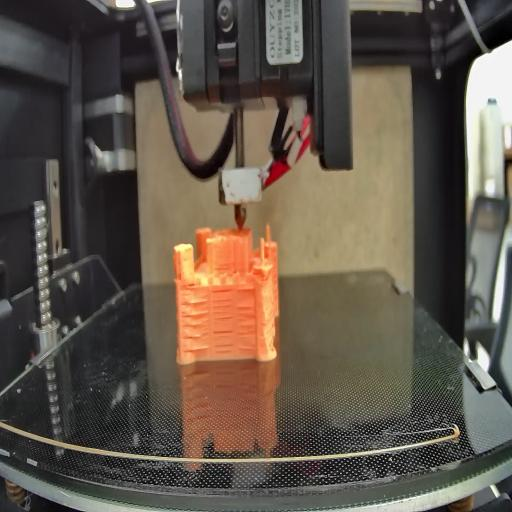cracks: (182, 300, 209, 354), (236, 306, 255, 349), (211, 290, 234, 324), (212, 329, 236, 356), (237, 282, 255, 295), (217, 260, 233, 274), (183, 277, 201, 289)
